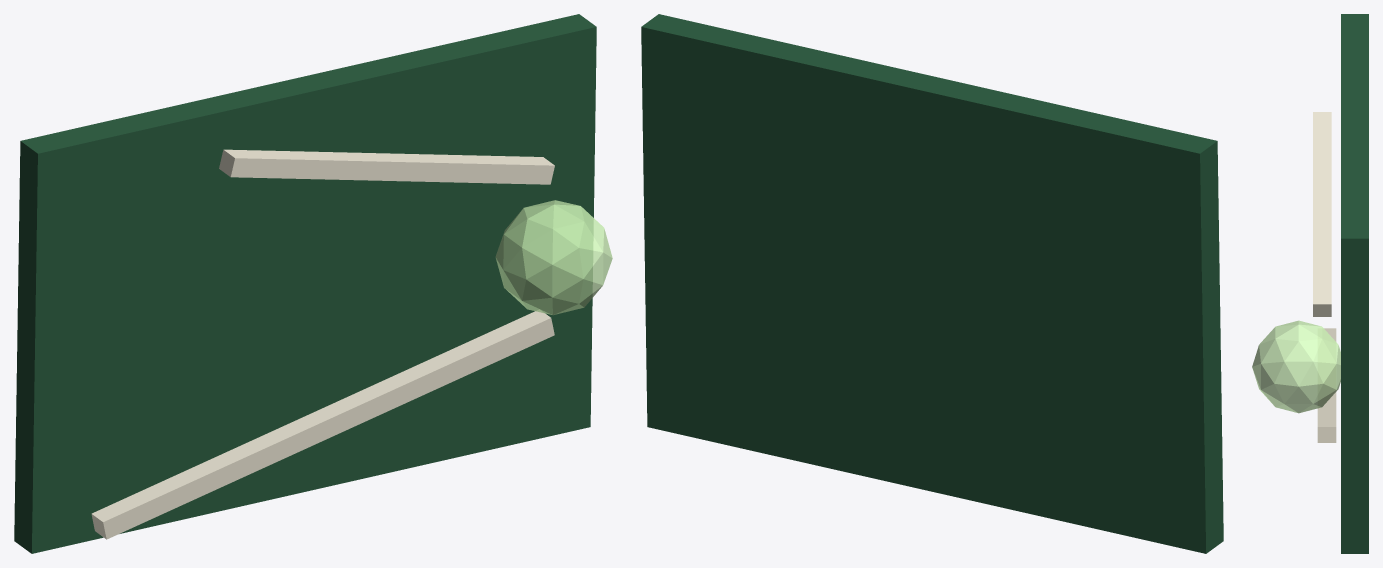
File: 02_world_prop_polish.glb
3 views of the same model, side by side, from view 1: azimuth 30°, elevation 25°; view 2: azimuth 150°, elevation 25°; view 3: azimuth 270°, elevation 25° (orthographic). The views are drawn at different scales.
Parts seen in each view (by area): view 1: object_overlay_plate, edge_wear_a, glow_socket, edge_wear_b; view 2: object_overlay_plate; view 3: object_overlay_plate, glow_socket, edge_wear_b, edge_wear_a.
Part boxes in pixels (x1,y1,x2,y2): object_overlay_plate: (14, 14, 596, 553); edge_wear_a: (91, 310, 554, 539); glow_socket: (495, 200, 612, 315); edge_wear_b: (219, 149, 554, 184); object_overlay_plate: (641, 14, 1223, 553); object_overlay_plate: (1341, 14, 1368, 553); glow_socket: (1252, 320, 1340, 413); edge_wear_b: (1313, 112, 1331, 316); edge_wear_a: (1317, 328, 1336, 442).
Size of the model in its own units: 1.11 by 0.7677 by 0.25.
